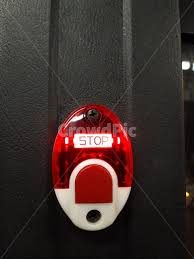bell: (51, 104, 134, 231)
